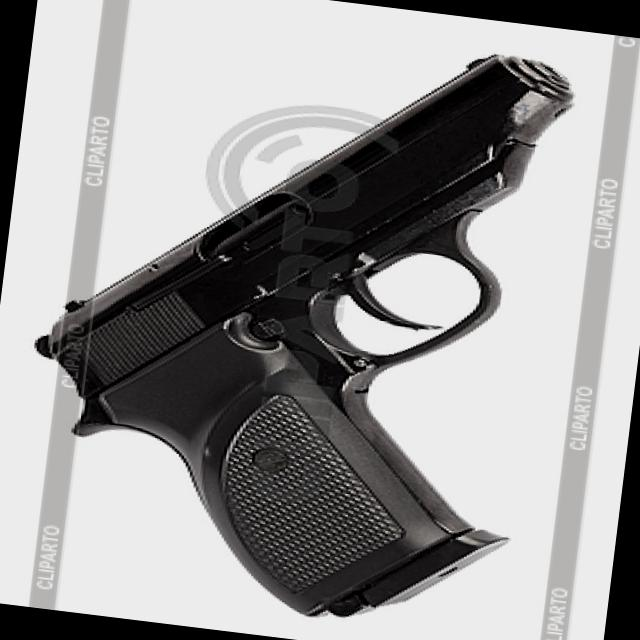handgun: (1, 13, 597, 639)
